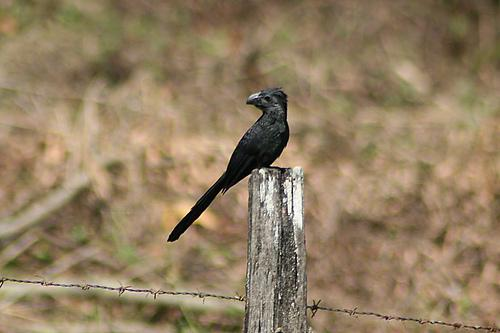004.Groove_billed_Ani: (164, 86, 292, 244)
